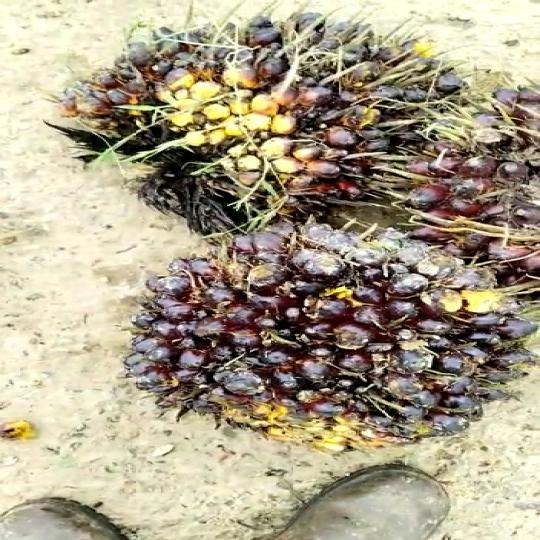kurang masak: (78, 9, 489, 232), (160, 210, 529, 454)
